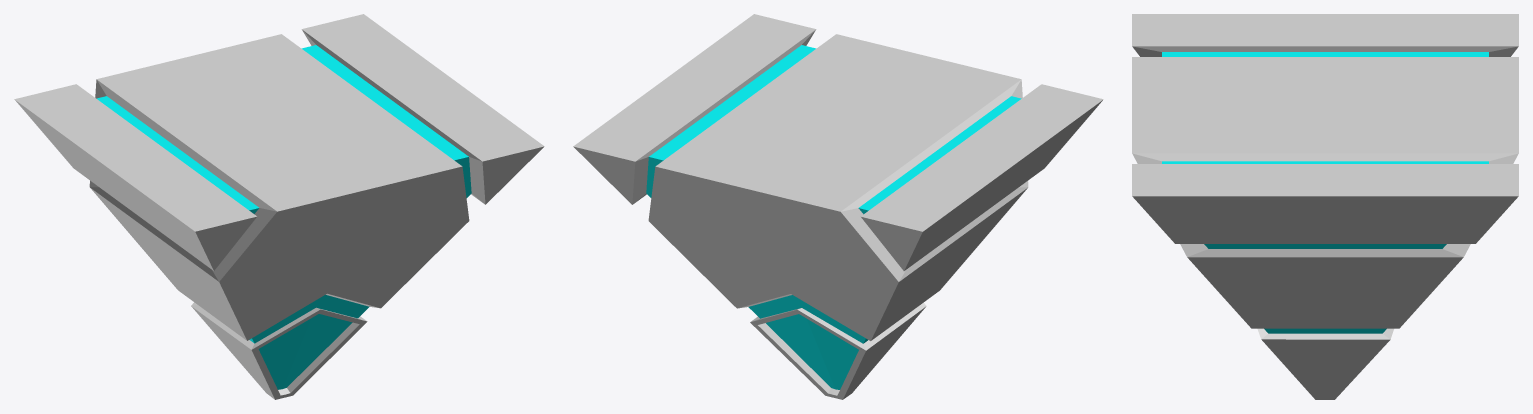
The model's file is Platform_v3.fbx.
The picture shows the model from 3 angles, left to right: view 1: azimuth 30°, elevation 25°; view 2: azimuth 150°, elevation 25°; view 3: azimuth 270°, elevation 25°; orthographic projection. The views are drawn at different scales.
Parts seen in each view (by area): view 1: Platform_v3; view 2: Platform_v3; view 3: Platform_v3.
Part boxes in pixels (box(x1,y1,x2,y2)): Platform_v3: box(14, 14, 544, 399); Platform_v3: box(573, 14, 1103, 399); Platform_v3: box(1132, 14, 1518, 399).
Size of the model in its own units: 2.73 by 2.03 by 2.45.
